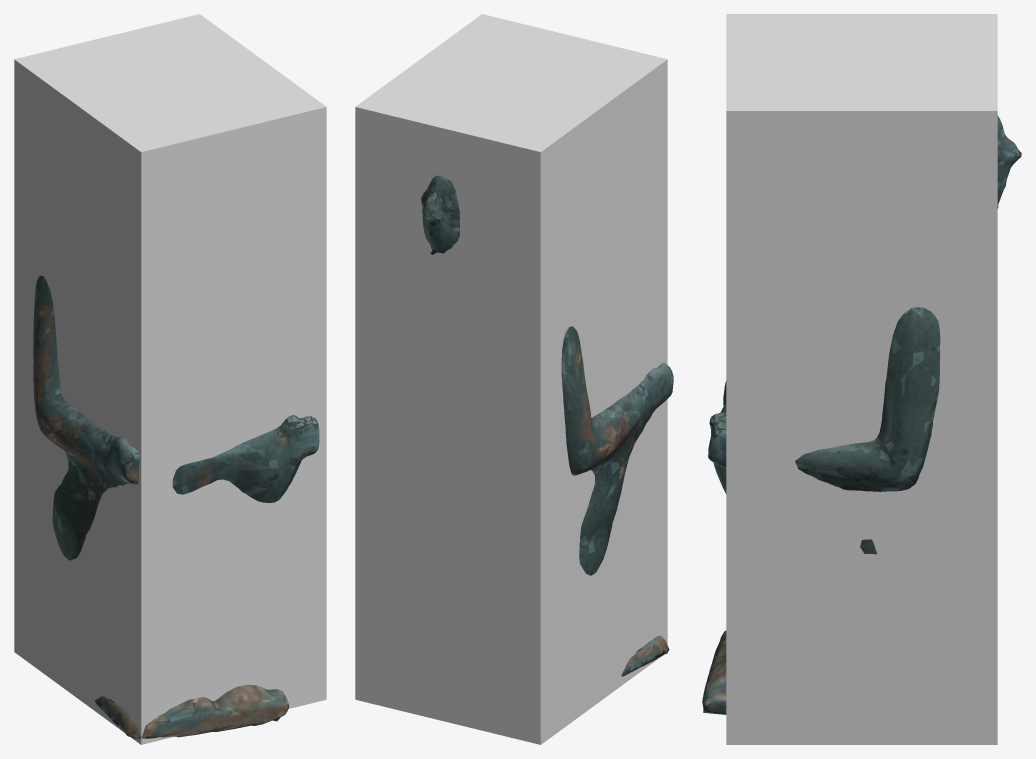
Rendered from sekhmet_sanctuary.glb.
The picture shows the model from 3 angles, left to right: view 1: azimuth 30°, elevation 25°; view 2: azimuth 150°, elevation 25°; view 3: azimuth 270°, elevation 25°; orthographic projection. The views are drawn at different scales.
Parts seen in each view (by area): view 1: col_sekhmet_sanctuary, sekhmet_sanctuary; view 2: col_sekhmet_sanctuary, sekhmet_sanctuary; view 3: col_sekhmet_sanctuary, sekhmet_sanctuary.
Part boxes in pixels (x1,y1,x2,y2): col_sekhmet_sanctuary: (14,14,326,744); sekhmet_sanctuary: (33,275,319,738); col_sekhmet_sanctuary: (355,14,667,744); sekhmet_sanctuary: (421,175,673,676); col_sekhmet_sanctuary: (726,14,997,744); sekhmet_sanctuary: (702,115,1021,714).
Size of the model in its own units: 0.033 by 0.0856 by 0.0391.
1 material, 1 textured.
